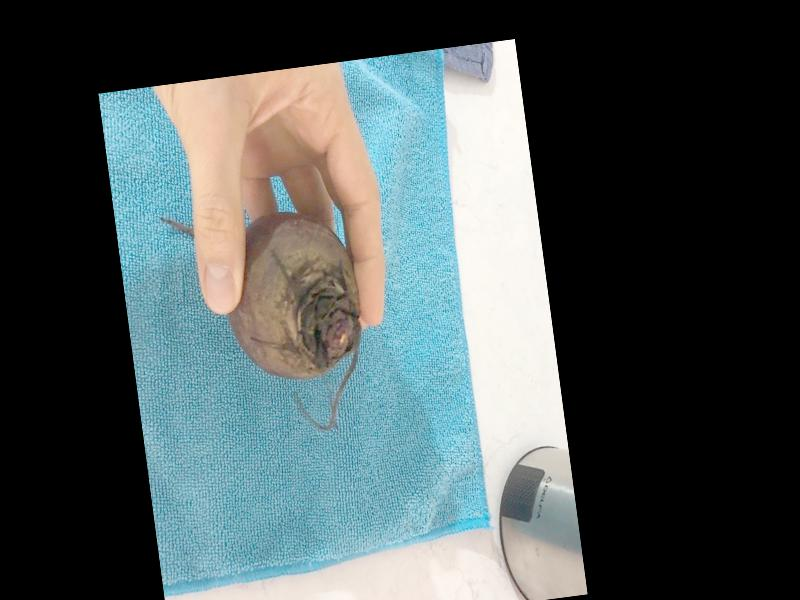Beet: (160, 194, 374, 446)
